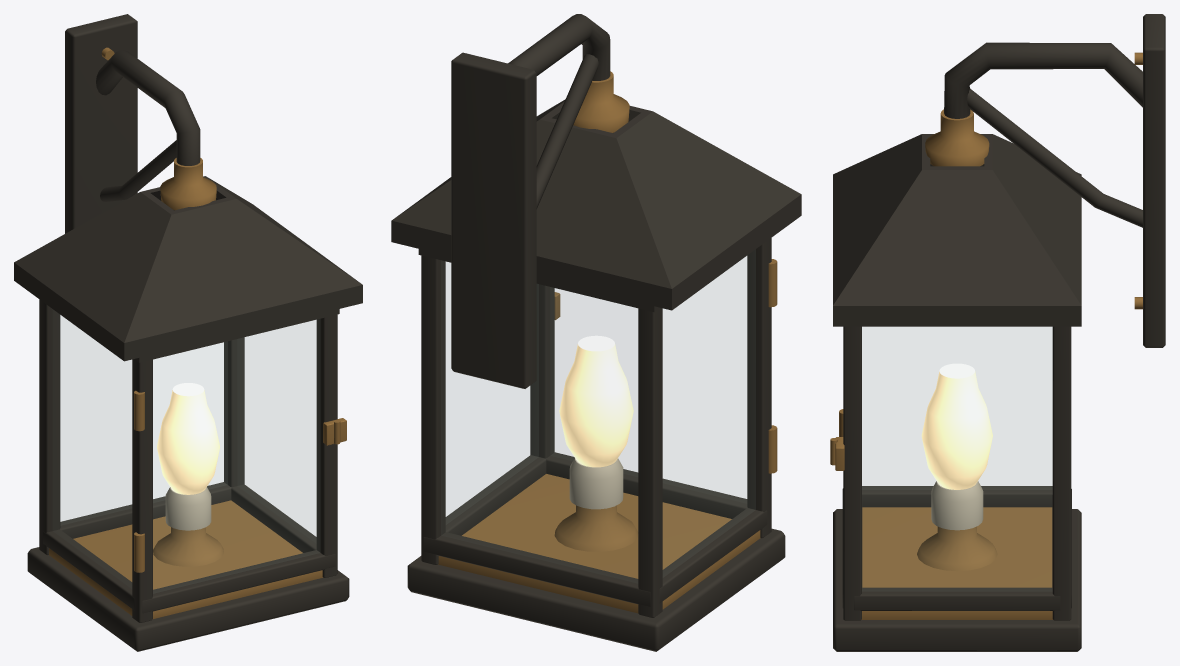
File: rpg-mansion-bracketed-wall-lantern-01.glb
The picture shows the model from 3 angles, left to right: view 1: azimuth 30°, elevation 25°; view 2: azimuth 150°, elevation 25°; view 3: azimuth 270°, elevation 25°; orthographic projection. The views are drawn at different scales.
Visible parts, largest first — view 1: rpg-mansion-bracketed-wall-lantern-01; view 2: rpg-mansion-bracketed-wall-lantern-01; view 3: rpg-mansion-bracketed-wall-lantern-01.
Part boxes in pixels (x1,y1,x2,y2): rpg-mansion-bracketed-wall-lantern-01: (14,14,362,651); rpg-mansion-bracketed-wall-lantern-01: (391,14,801,651); rpg-mansion-bracketed-wall-lantern-01: (830,14,1165,651).
Size of the model in its own units: 0.3 by 0.6 by 0.3235.
